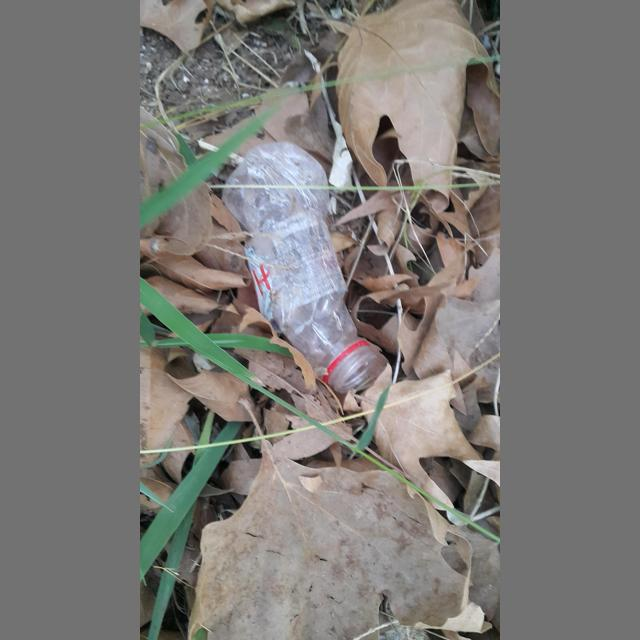litter: (222, 142, 376, 393)
